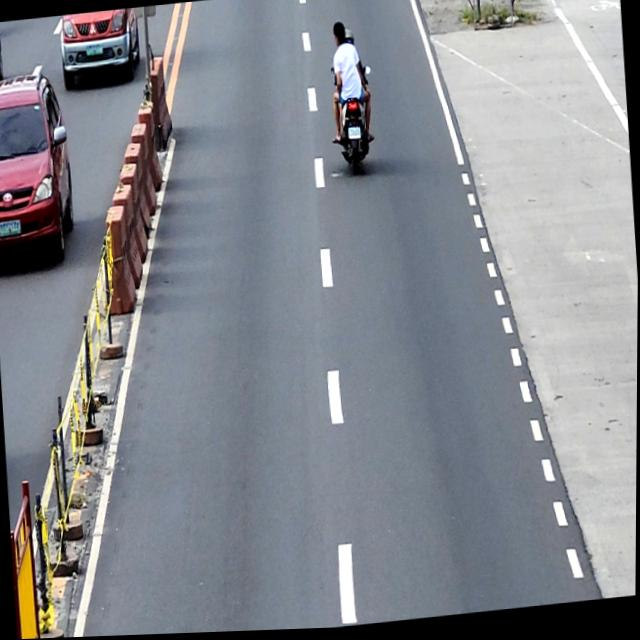Car: (0, 71, 79, 268), (58, 8, 142, 90)
License-Plate: (0, 218, 22, 236), (86, 44, 103, 56), (348, 128, 361, 142)
Motorcycle: (329, 63, 379, 179)
